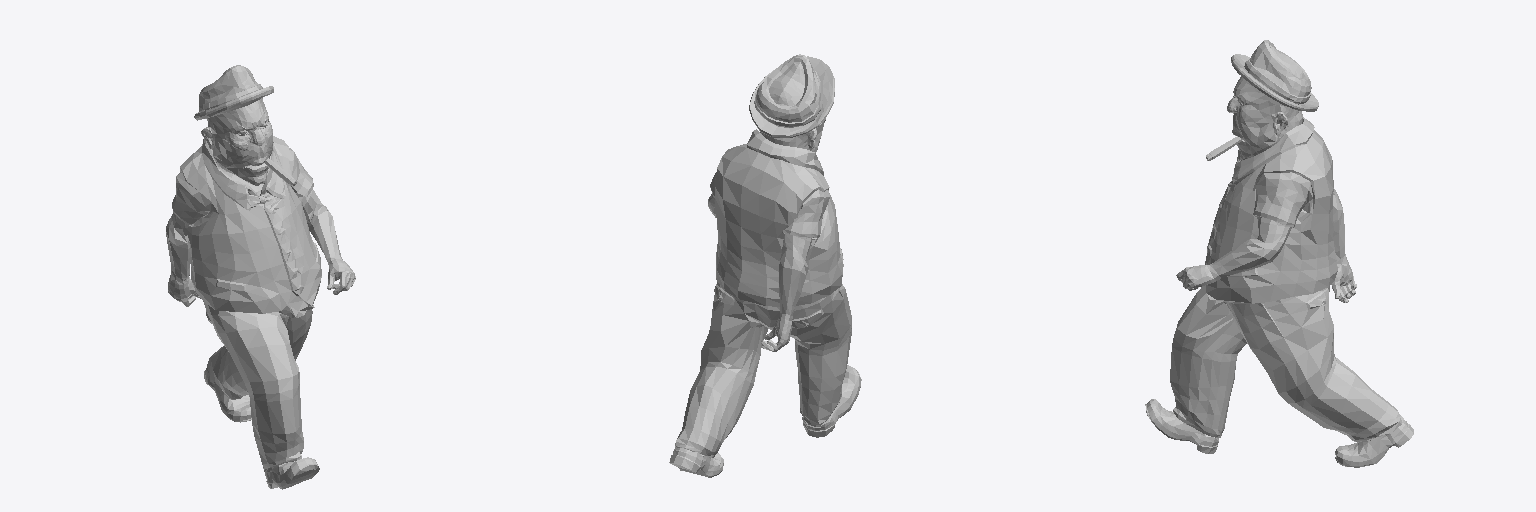
Rendered from walk0025.obj.
3 renders of one model, left to right at view 1: azimuth 30°, elevation 25°; view 2: azimuth 150°, elevation 25°; view 3: azimuth 270°, elevation 25°, orthographic.
Visible parts, largest first — view 1: mixamorig:Jacket_Geo, mixamorig:Pants_Geo, mixamorig:Head_Geo, mixamorig:Arms_Geo, mixamorig:Hat_Geo, mixamorig:Shoes_Geo; view 2: mixamorig:Jacket_Geo, mixamorig:Pants_Geo, mixamorig:Hat_Geo, mixamorig:Arms_Geo, mixamorig:Shoes_Geo, mixamorig:Head_Geo; view 3: mixamorig:Pants_Geo, mixamorig:Jacket_Geo, mixamorig:Arms_Geo, mixamorig:Head_Geo, mixamorig:Hat_Geo, mixamorig:Shoes_Geo.
Part boxes in pixels (x1,y1,x2,y2): mixamorig:Jacket_Geo: (172, 136, 321, 317); mixamorig:Pants_Geo: (203, 301, 312, 471); mixamorig:Head_Geo: (201, 98, 273, 195); mixamorig:Arms_Geo: (166, 190, 355, 306); mixamorig:Hat_Geo: (194, 65, 273, 120); mixamorig:Shoes_Geo: (204, 367, 319, 489); mixamorig:Jacket_Geo: (710, 129, 843, 306); mixamorig:Pants_Geo: (675, 282, 851, 457); mixamorig:Hat_Geo: (749, 54, 834, 137); mixamorig:Arms_Geo: (708, 194, 811, 351); mixamorig:Shoes_Geo: (669, 365, 861, 477); mixamorig:Head_Geo: (760, 118, 825, 152); mixamorig:Pants_Geo: (1170, 285, 1403, 442); mixamorig:Jacket_Geo: (1205, 117, 1337, 303); mixamorig:Arms_Geo: (1176, 189, 1356, 302); mixamorig:Head_Geo: (1227, 76, 1302, 160); mixamorig:Hat_Geo: (1231, 40, 1318, 111); mixamorig:Shoes_Geo: (1145, 399, 1413, 467).
Size of the model in its own units: 0.6624 by 1.92 by 1.16.